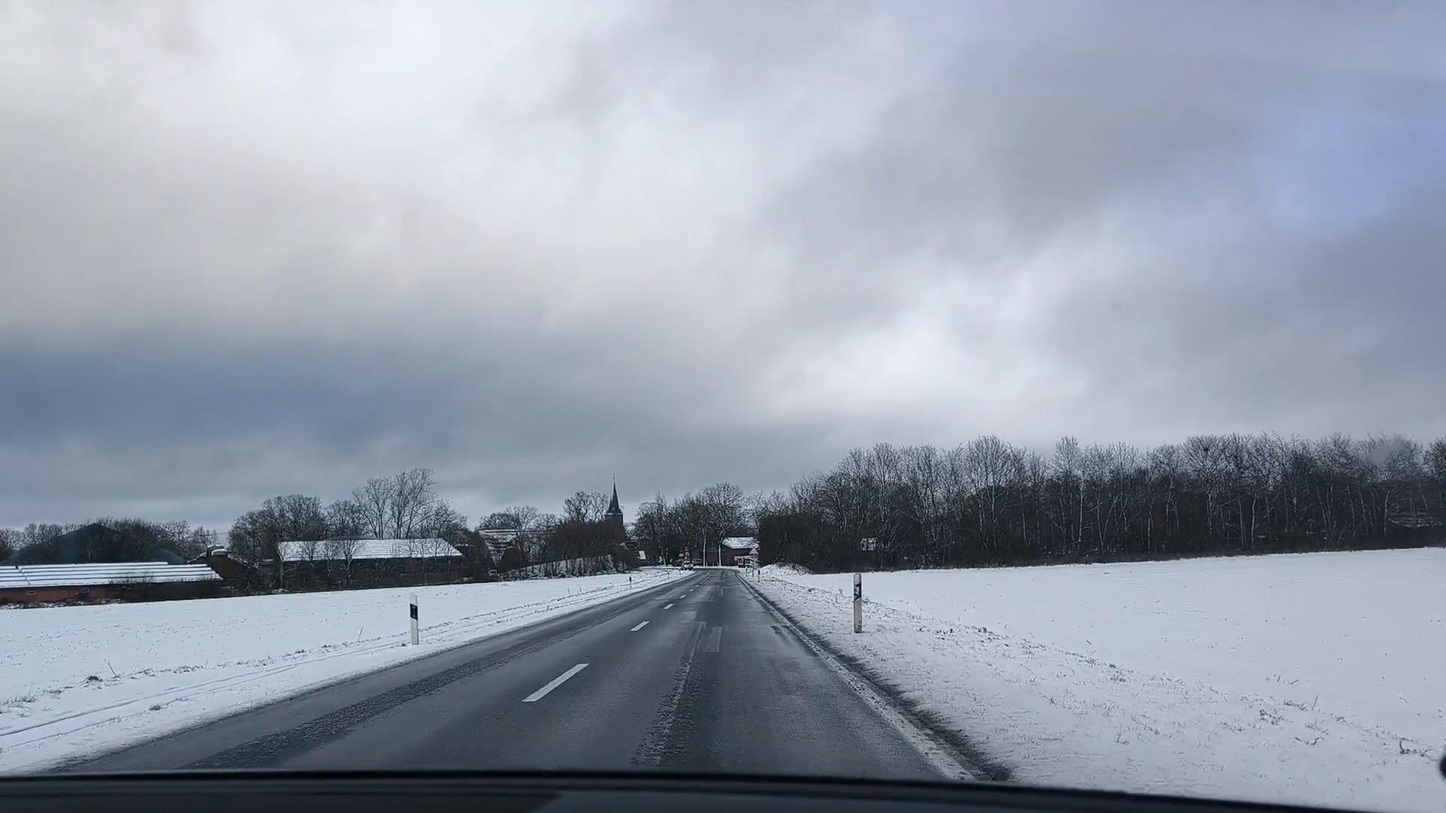Snow: (749, 549, 1446, 802), (0, 573, 681, 773)
wet: (48, 568, 974, 779)
